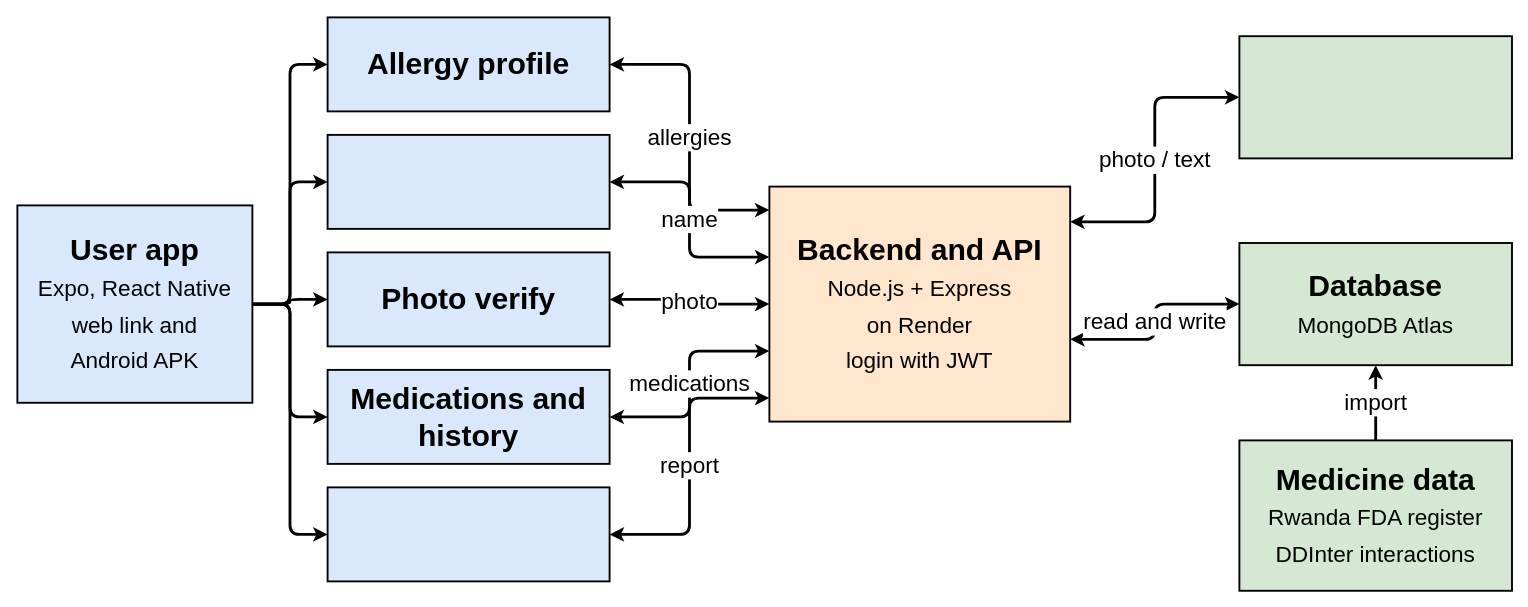
The diagram is 1528 pixels wide and 607 high, and some of its shapes have lost their labels. The shapes that lost their labels are listed below. From the top down, each one's box as (x1, y1, x2, y2) in pixels, then its label:
(1238, 35, 1512, 159): Text reader OCR.space
(326, 133, 610, 229): Search
(326, 486, 610, 582): Report suspicious medicine
